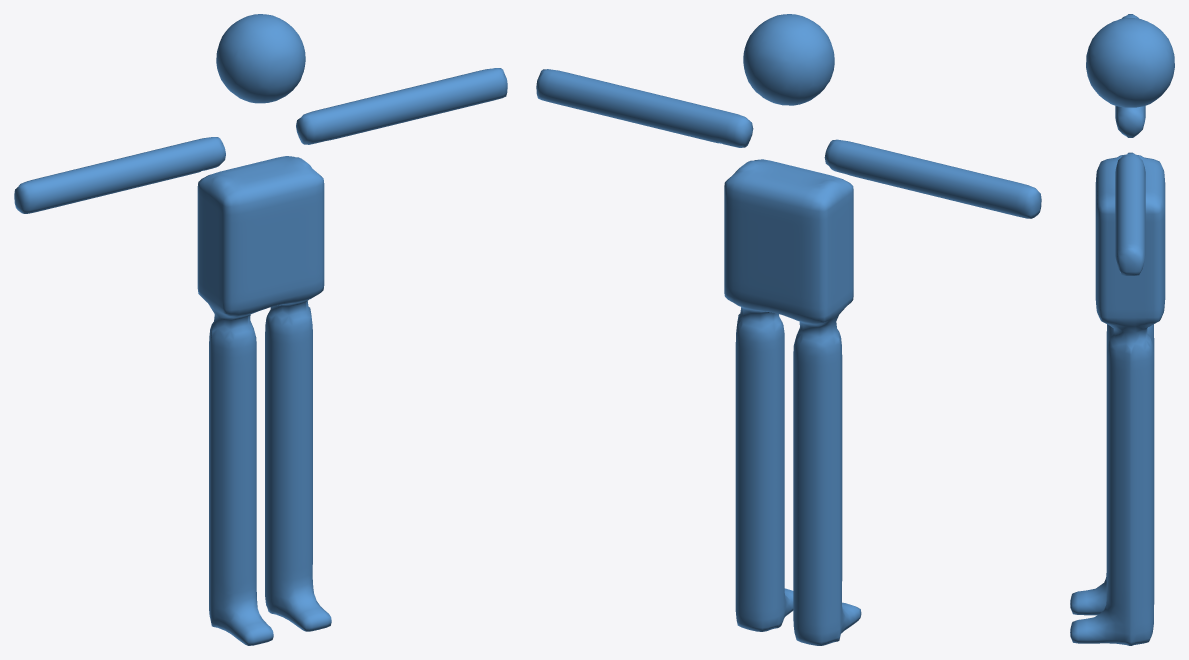
File: hero_mesh.glb
3 renders of one model, left to right at view 1: azimuth 30°, elevation 25°; view 2: azimuth 150°, elevation 25°; view 3: azimuth 270°, elevation 25°, orthographic. The views are drawn at different scales.
Parts seen in each view (by area): view 1: demo_humanoid; view 2: demo_humanoid; view 3: demo_humanoid.
Part boxes in pixels (x1,y1,x2,y2): demo_humanoid: [14, 14, 507, 645]; demo_humanoid: [536, 14, 1041, 645]; demo_humanoid: [1070, 14, 1174, 645].
Size of the model in its own units: 1.46 by 1.71 by 0.2703.
